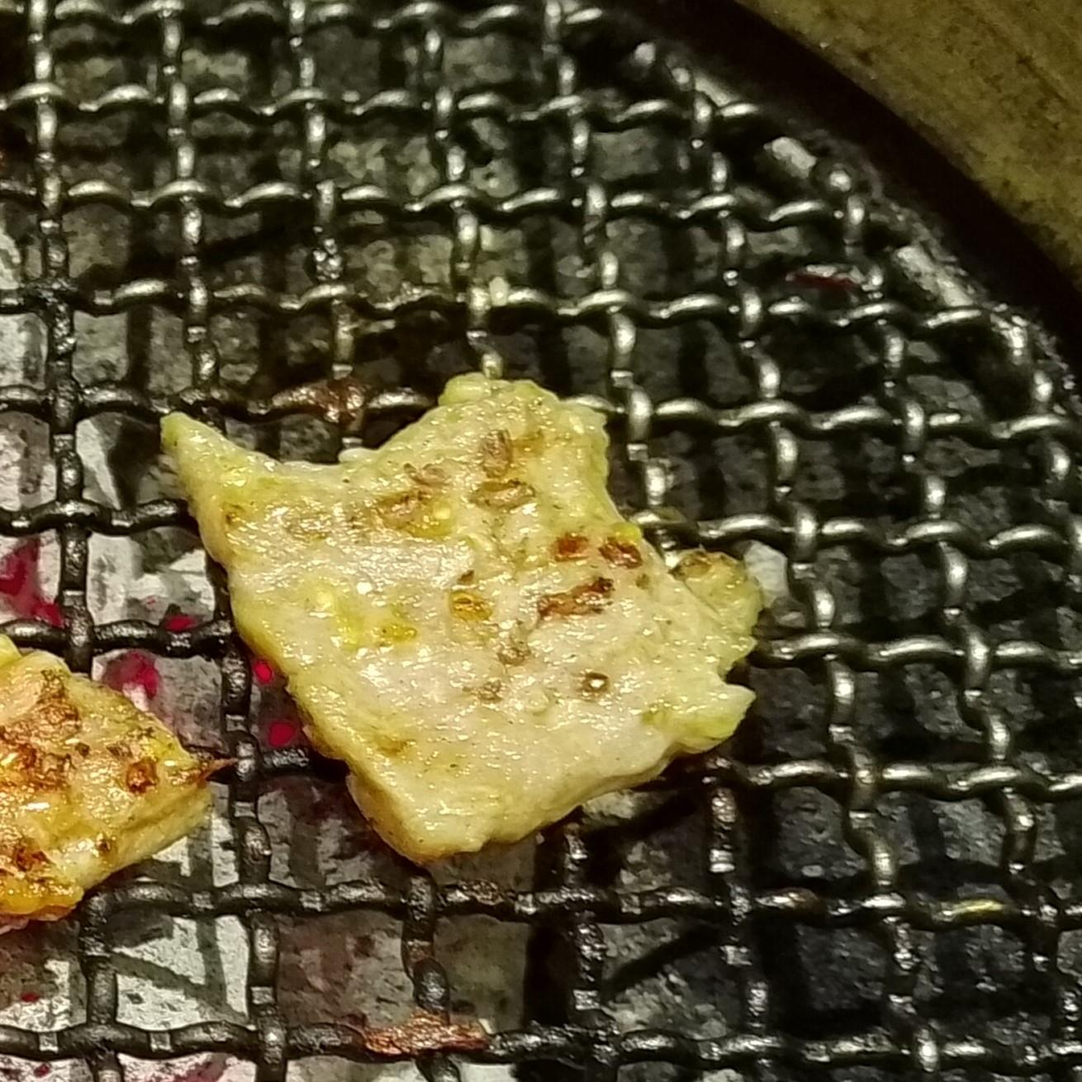Well-Cooked: (161, 373, 762, 861), (0, 636, 228, 928)
